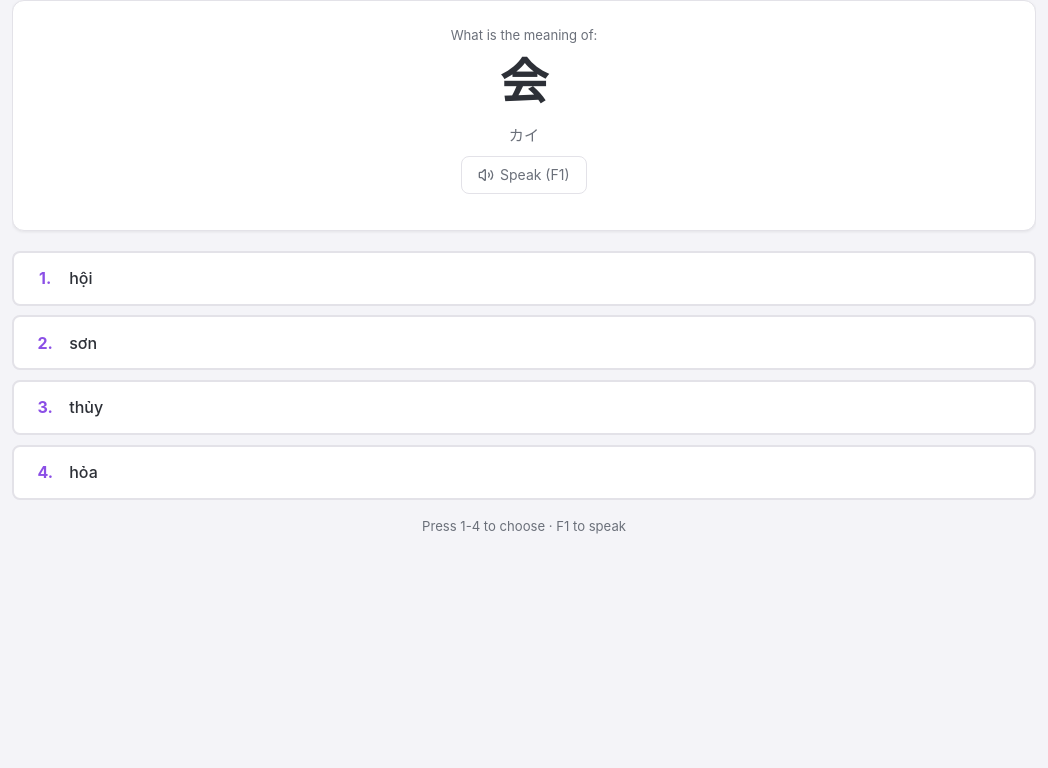
KanjiMultipleChoice — selection › correct answer shows Correct! feedback
What coordinates should you click on to do the following:
click the text "hội"
I would click on:
 (81, 278)
Its box is [69,268,92,288].
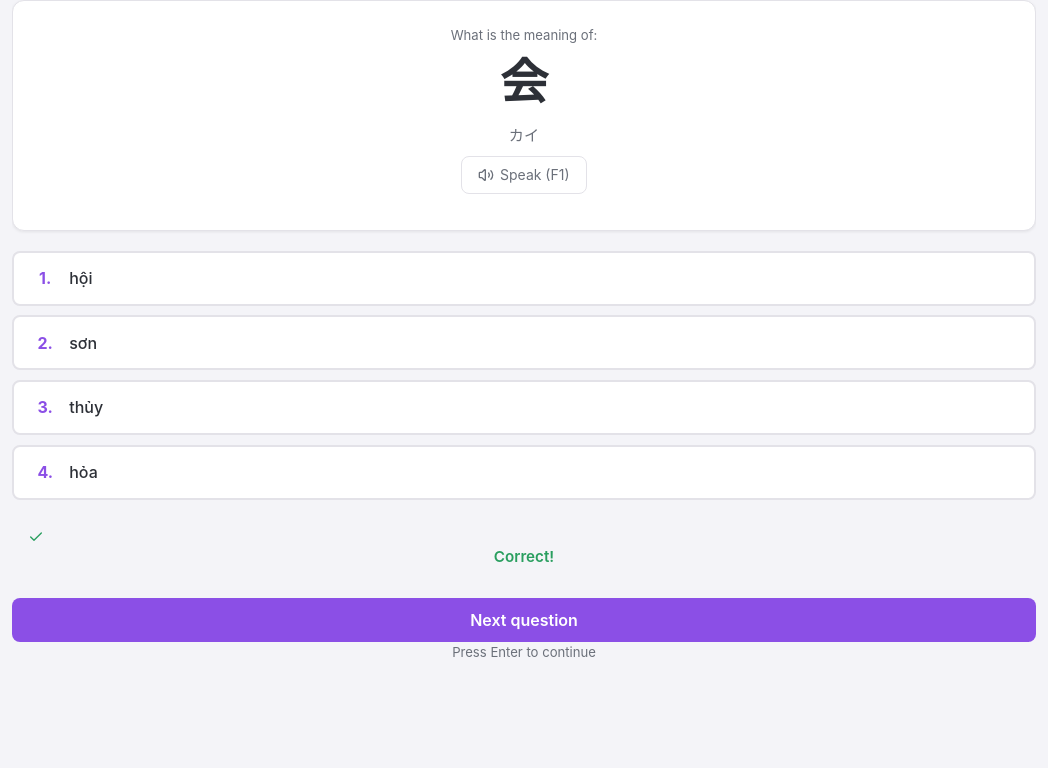
expect the text "Correct!" is shown: met, box [28,529,554,566]
